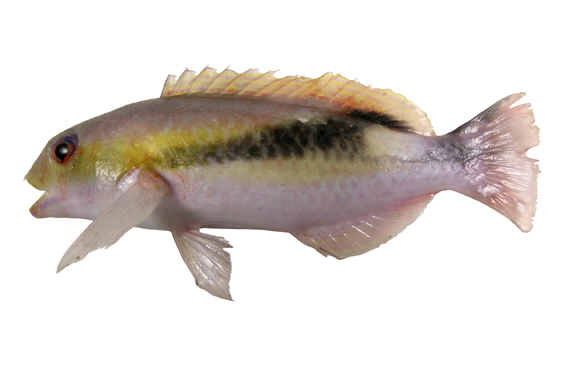fish: (24, 68, 540, 301)
